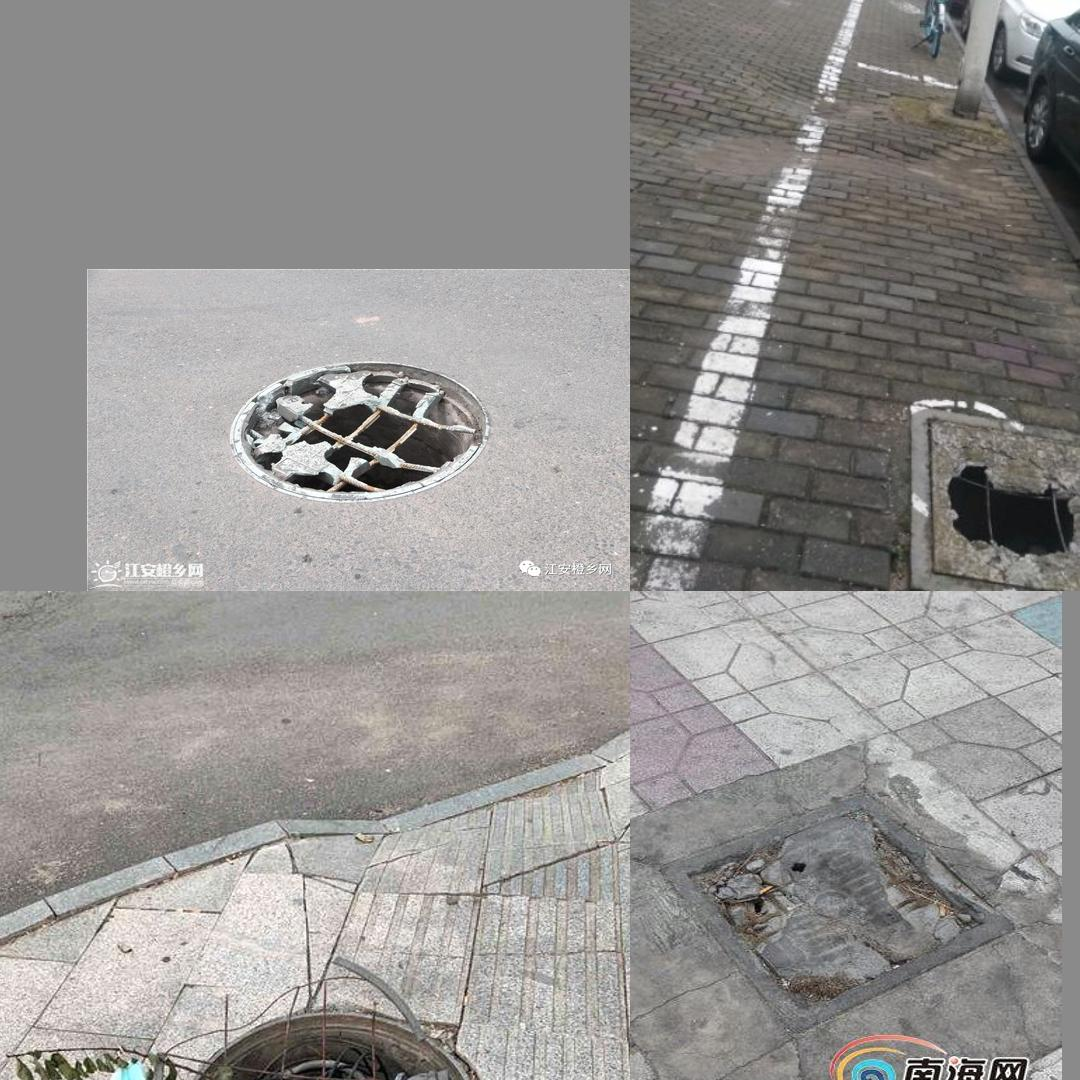broke: (657, 785, 1032, 1026), (226, 349, 490, 509), (133, 977, 506, 1080), (907, 404, 1080, 591)
